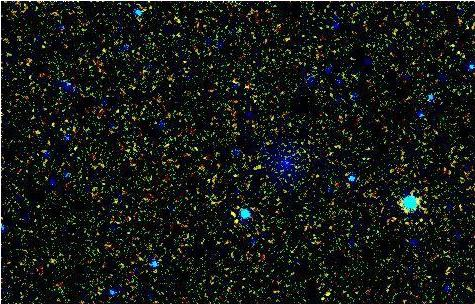star: (312, 284, 342, 304)
